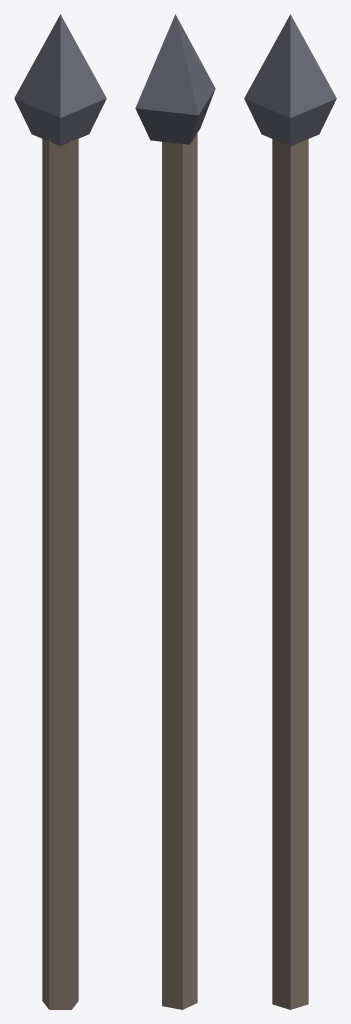
The model's file is Ballista_shell.fbx.
3 renders of one model, left to right at view 1: azimuth 90°, elevation 25°; view 2: azimuth 210°, elevation 25°; view 3: azimuth 270°, elevation 25°, orthographic.
Parts seen in each view (by area): view 1: Ballista_shell; view 2: Ballista_shell; view 3: Ballista_shell.
Boxes of the visible parts, left/top/right/bottom form: Ballista_shell: left=14, top=14, right=106, bottom=1009; Ballista_shell: left=135, top=14, right=215, bottom=1009; Ballista_shell: left=244, top=14, right=336, bottom=1009.
Bounding box in the file's own units: 23.22 × 273 × 23.22.
